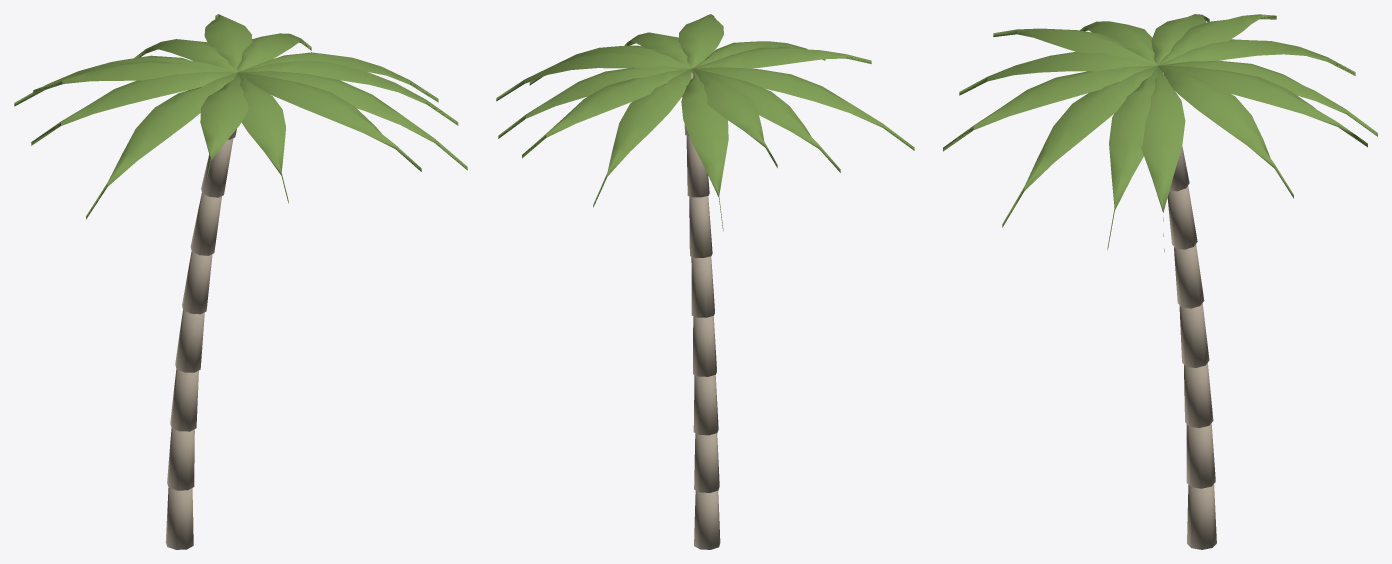
The model's file is arbre_palmier2.glb.
3 renders of one model, left to right at view 1: azimuth 30°, elevation 25°; view 2: azimuth 150°, elevation 25°; view 3: azimuth 270°, elevation 25°, orthographic. The views are drawn at different scales.
Parts seen in each view (by area): view 1: arbre_palmier2; view 2: arbre_palmier2; view 3: arbre_palmier2.
Boxes of the visible parts, x1,y1,x2,y2 form: arbre_palmier2: [14, 14, 467, 549]; arbre_palmier2: [496, 14, 914, 549]; arbre_palmier2: [943, 14, 1377, 549].
Bounding box in the file's own units: 8.64 × 10.1 × 7.9.
